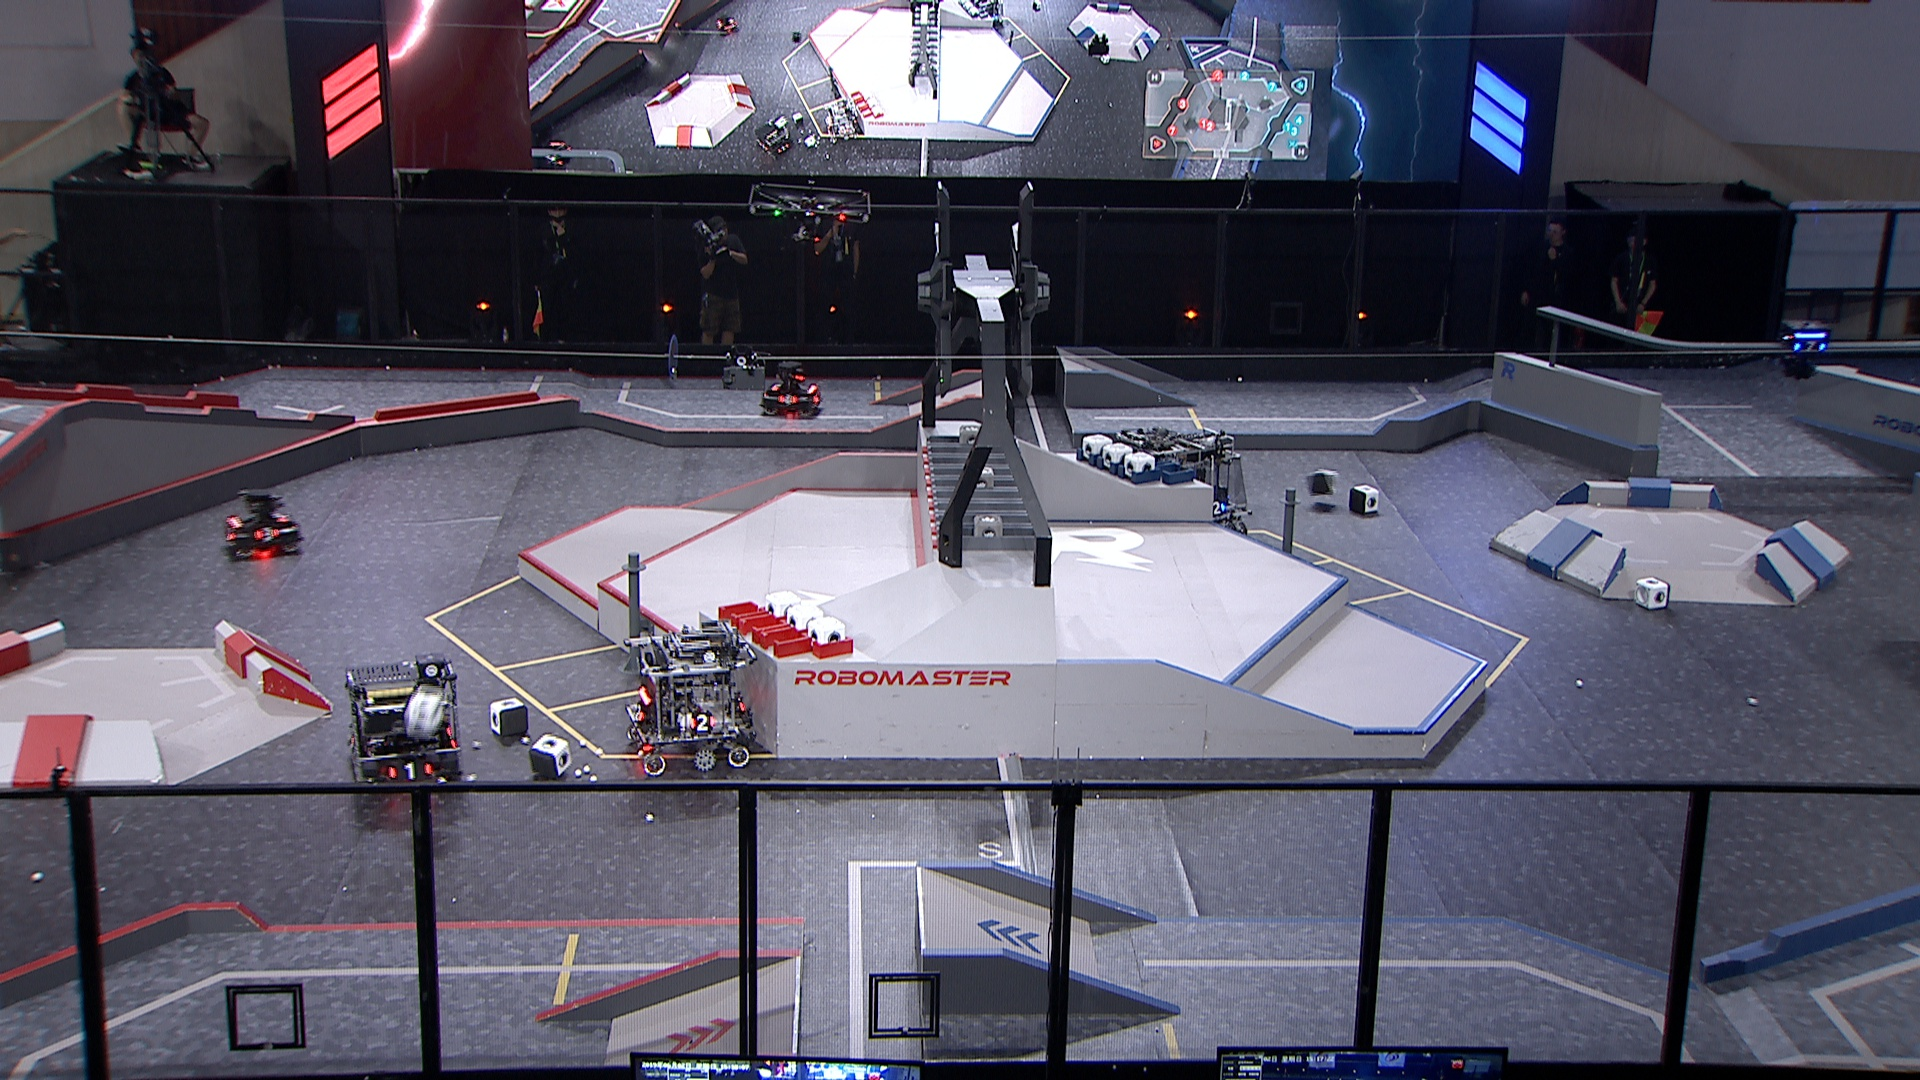armor: (386, 761, 434, 783), (686, 713, 719, 733), (255, 524, 281, 543), (1793, 339, 1826, 353), (632, 702, 647, 723), (778, 392, 799, 407), (1212, 498, 1228, 516)
car: (624, 618, 756, 777), (343, 650, 463, 790), (1122, 429, 1253, 547), (224, 488, 305, 560), (757, 361, 823, 418)
ignore: (825, 104, 864, 146), (756, 120, 794, 161), (545, 140, 572, 169), (713, 15, 738, 36)
watcher: (1778, 316, 1832, 382)
